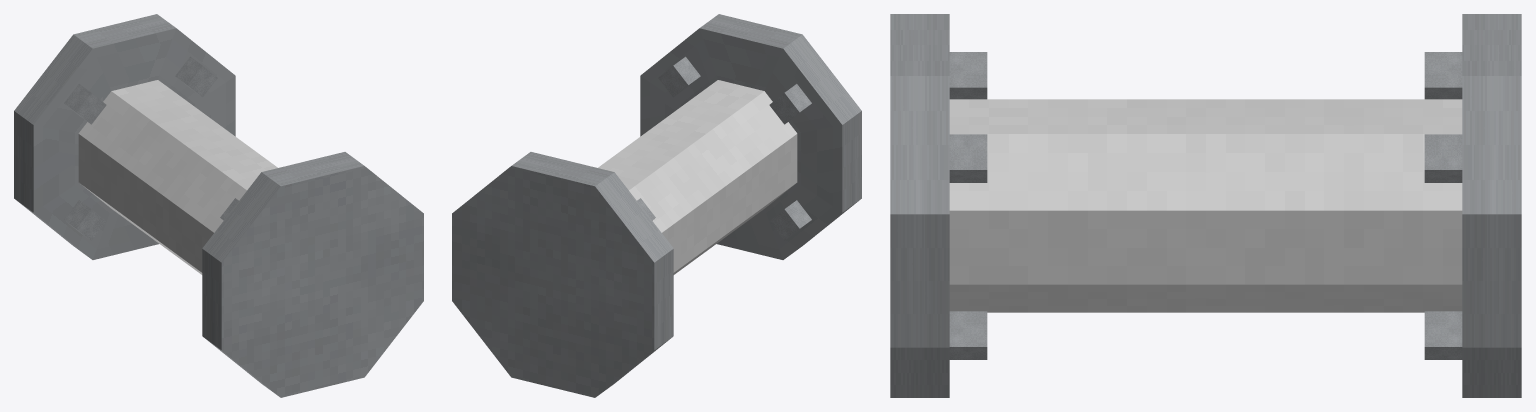
Rendered from item.obj.
The picture shows the model from 3 angles, left to right: view 1: azimuth 30°, elevation 25°; view 2: azimuth 150°, elevation 25°; view 3: azimuth 270°, elevation 25°; orthographic projection. The views are drawn at different scales.
Bounding box in the file's own units: 0.5625 × 0.5625 × 1.
